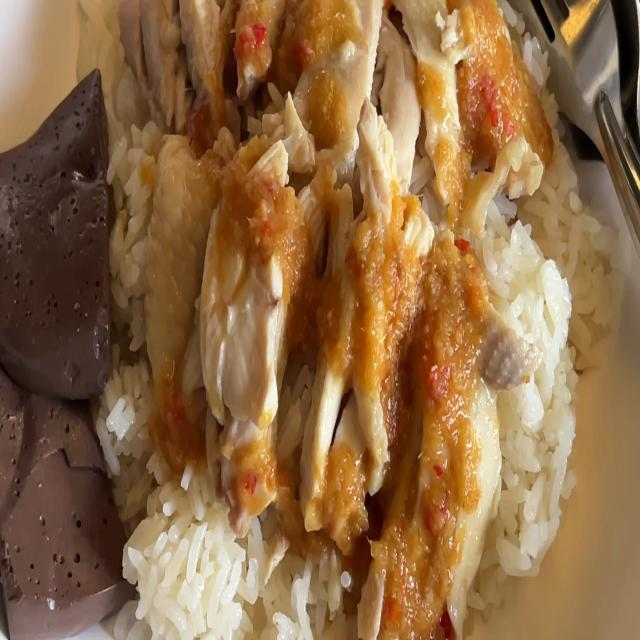chicken_rice: (131, 0, 510, 521)
noodle: (0, 76, 125, 395), (0, 362, 127, 624)
